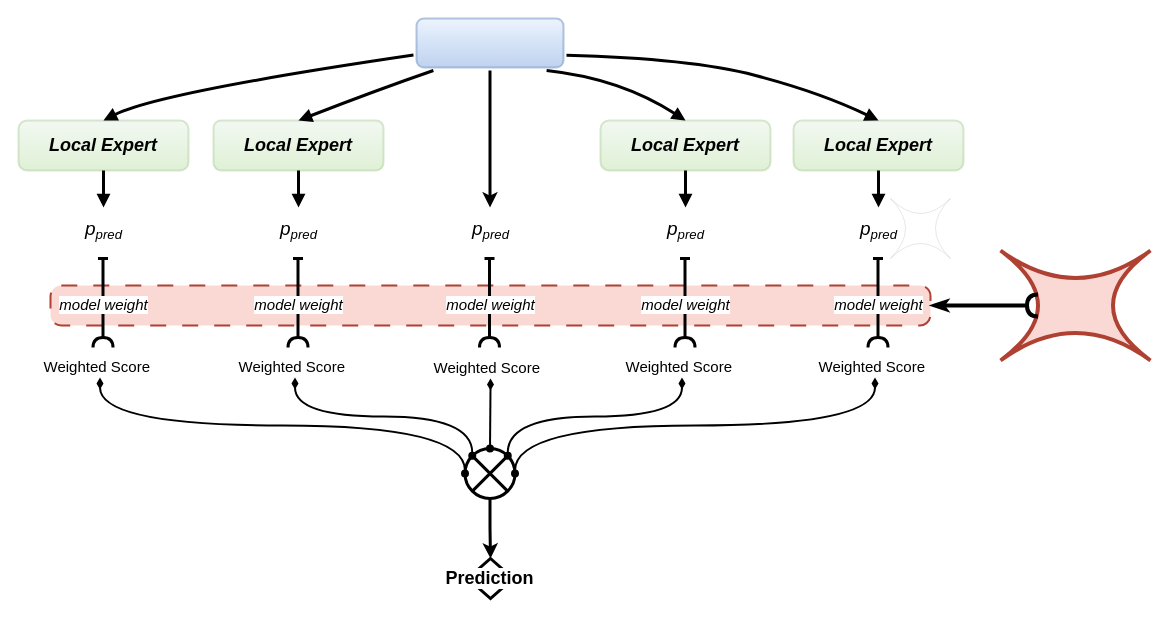
This 1169x617 diagram has some shape labels left out. Here are the shapes that lost their labels. From the top down, the box of each, then its label:
(415, 17, 564, 68): Base Model
(998, 248, 1152, 362): Gating Function
(463, 446, 516, 500): Activation Function
